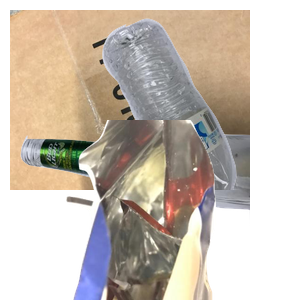cardboard: (10, 10, 250, 190)
glass: (18, 124, 258, 300)
plastic: (100, 16, 300, 196)
trash: (63, 120, 300, 300)
